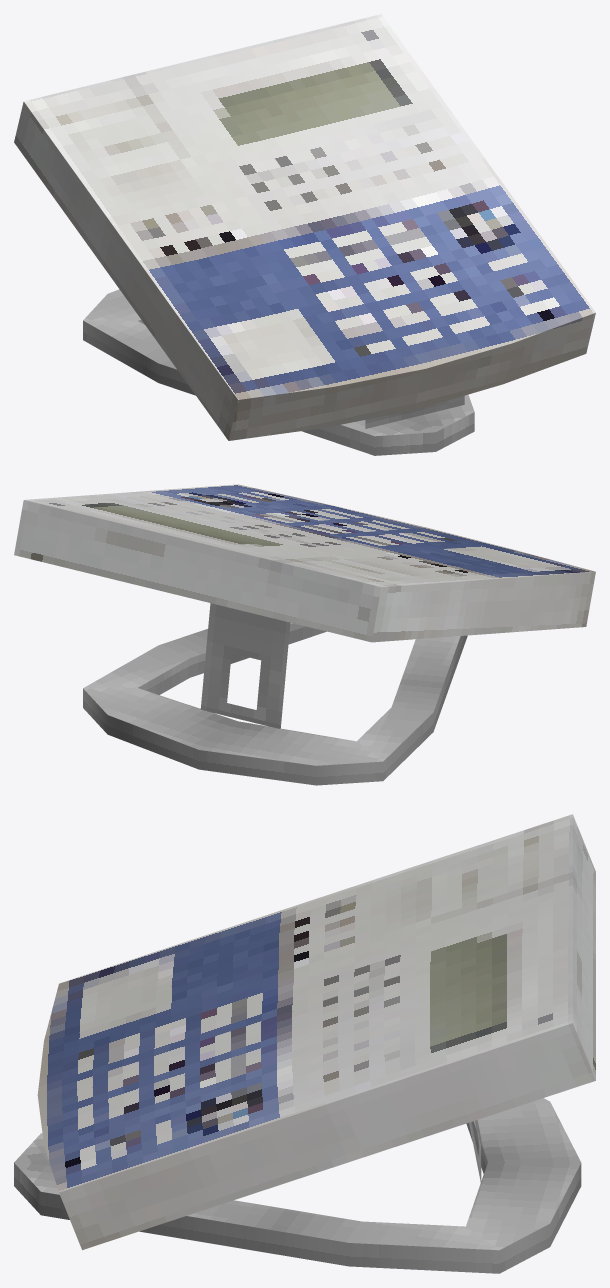
File: Phone.glb
3 views of the same model, one above another, from view 1: azimuth 30°, elevation 25°; view 2: azimuth 150°, elevation 25°; view 3: azimuth 270°, elevation 25° (orthographic). The views are drawn at different scales.
Visible parts, largest first — view 1: phone; view 2: phone; view 3: phone.
Boxes of the visible parts, x1,y1,x2,y2 form: phone: (14, 14, 595, 455); phone: (14, 484, 595, 785); phone: (14, 814, 595, 1273).
Bounding box in the file's own units: 0.1985 × 0.1185 × 0.2336.
1 material, 1 textured.
